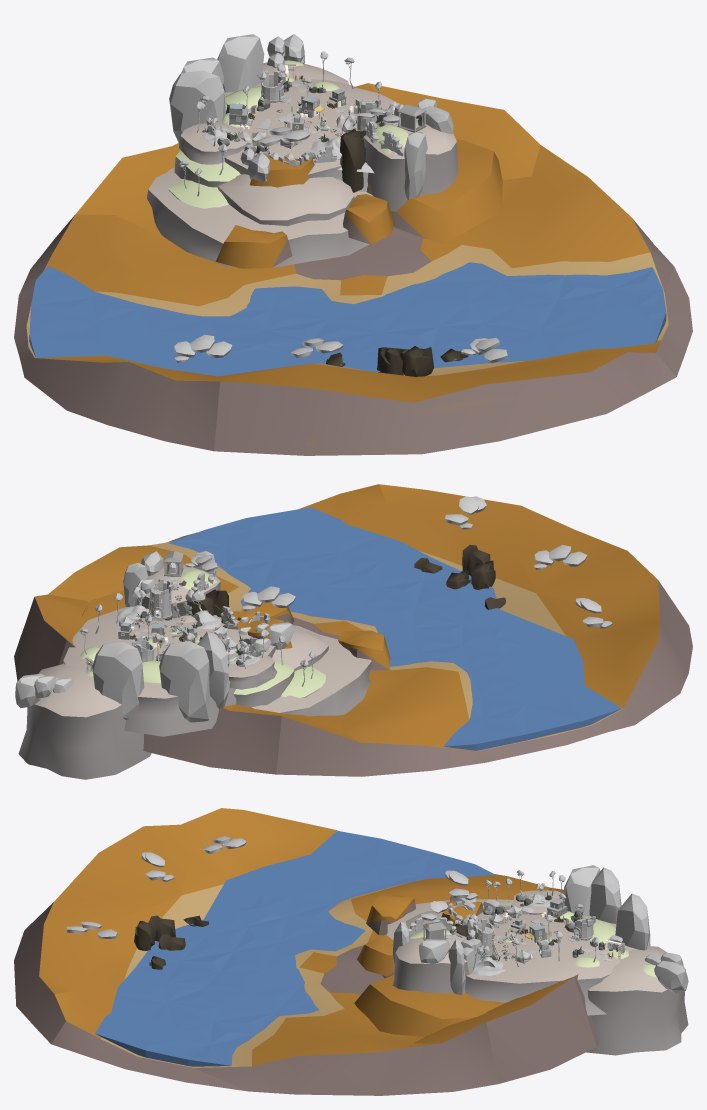
Rendered from landscape.fbx.
The picture shows the model from 3 angles, top to bottom: view 1: azimuth 30°, elevation 25°; view 2: azimuth 150°, elevation 25°; view 3: azimuth 270°, elevation 25°; orthographic projection. The views are drawn at different scales.
Parts seen in each view (by area): view 1: ground_Icosphere, water_Icosphere.010, dirtcliff_Mesh1_Model.004, Slope.002, dirtcliff_Mesh1_Model.001, dirtcliff_Mesh1_Model.007, dirtcliff_Mesh1_Model.003, mff_stone_0.007, Slope.004, mff_stone_0.017, Slope.001, dirtcliff_Mesh1_Model (+10 smaller); view 2: ground_Icosphere, water_Icosphere.010, dirtcliff_Mesh1_Model.002, dirtcliff_Mesh1_Model.001, dirtcliff_Mesh1_Model.004, mff_stone_0.006, mff_stone_0.017, Slope.004, mff_stone_0.007, cliff_Mesh1_Model, dirtcliff_Mesh1_Model.007, dirtcliff_Mesh1_Model (+15 smaller); view 3: ground_Icosphere, water_Icosphere.010, dirtcliff_Mesh1_Model.002, dirtcliff_Mesh1_Model.001, Slope.002, dirtcliff_Mesh1_Model.003, mff_stone_0.017, mff_stone_0.006, Slope.004, mff_stone_0.007, Slope.001, mff_stone_0.011 (+11 smaller).
Boxes of the visible parts, x1=… form: ground_Icosphere: x1=14, y1=83, x2=692, y2=455; water_Icosphere.010: x1=29, y1=262, x2=666, y2=376; dirtcliff_Mesh1_Model.004: x1=147, y1=167, x2=373, y2=267; Slope.002: x1=366, y1=139, x2=502, y2=243; dirtcliff_Mesh1_Model.001: x1=224, y1=78, x2=400, y2=191; dirtcliff_Mesh1_Model.007: x1=218, y1=174, x2=354, y2=226; dirtcliff_Mesh1_Model.003: x1=363, y1=117, x2=458, y2=211; mff_stone_0.007: x1=169, y1=70, x2=225, y2=142; Slope.004: x1=215, y1=225, x2=292, y2=268; mff_stone_0.017: x1=217, y1=34, x2=264, y2=92; Slope.001: x1=343, y1=194, x2=394, y2=244; dirtcliff_Mesh1_Model: x1=179, y1=123, x2=247, y2=164; ground_Icosphere: x1=14, y1=484, x2=692, y2=776; water_Icosphere.010: x1=169, y1=507, x2=621, y2=750; dirtcliff_Mesh1_Model.002: x1=18, y1=663, x2=151, y2=779; dirtcliff_Mesh1_Model.001: x1=63, y1=607, x2=275, y2=736; dirtcliff_Mesh1_Model.004: x1=251, y1=625, x2=371, y2=716; mff_stone_0.006: x1=159, y1=641, x2=209, y2=722; mff_stone_0.017: x1=92, y1=642, x2=144, y2=719; Slope.004: x1=338, y1=630, x2=390, y2=670; mff_stone_0.007: x1=197, y1=631, x2=229, y2=709; cliff_Mesh1_Model: x1=233, y1=659, x2=294, y2=707; dirtcliff_Mesh1_Model.007: x1=272, y1=628, x2=328, y2=671; dirtcliff_Mesh1_Model: x1=227, y1=650, x2=277, y2=689; ground_Icosphere: x1=14, y1=808, x2=599, y2=1095; water_Icosphere.010: x1=95, y1=831, x2=494, y2=1066; dirtcliff_Mesh1_Model.002: x1=586, y1=946, x2=688, y2=1055; dirtcliff_Mesh1_Model.001: x1=465, y1=905, x2=637, y2=1015; Slope.002: x1=354, y1=975, x2=504, y2=1036; dirtcliff_Mesh1_Model.003: x1=392, y1=932, x2=476, y2=993; mff_stone_0.017: x1=615, y1=893, x2=650, y2=950; mff_stone_0.006: x1=589, y1=867, x2=621, y2=923; Slope.004: x1=366, y1=894, x2=415, y2=935; mff_stone_0.007: x1=563, y1=865, x2=600, y2=916; Slope.001: x1=357, y1=934, x2=394, y2=976; mff_stone_0.011: x1=654, y1=960, x2=688, y2=992.
Bounding box in the file's own units: 58774 × 15471 × 64990.
